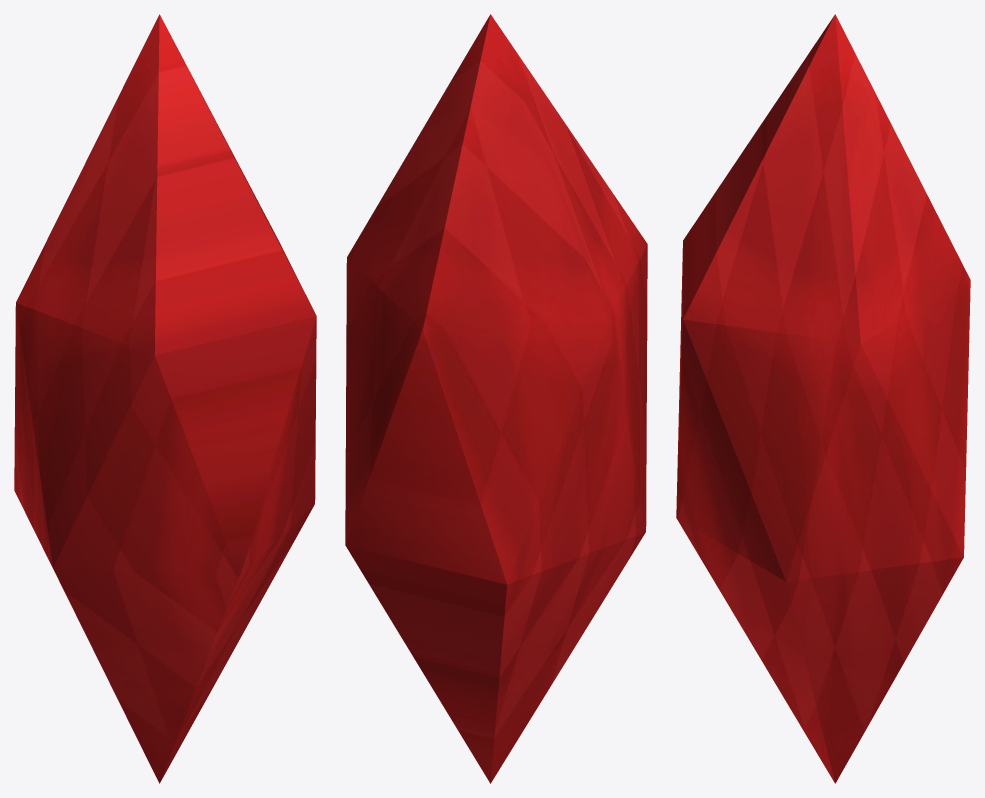
The model's file is RubyShard.fbx.
The picture shows the model from 3 angles, left to right: view 1: azimuth 30°, elevation 25°; view 2: azimuth 150°, elevation 25°; view 3: azimuth 270°, elevation 25°; orthographic projection.
Visible parts, largest first — view 1: Rock; view 2: Rock; view 3: Rock.
Part boxes in pixels (left/top/right/bottom): Rock: left=14, top=14, right=316, bottom=783; Rock: left=345, top=14, right=647, bottom=783; Rock: left=676, top=14, right=970, bottom=783.
Size of the model in its own units: 0.3696 by 1.04 by 0.3597.
